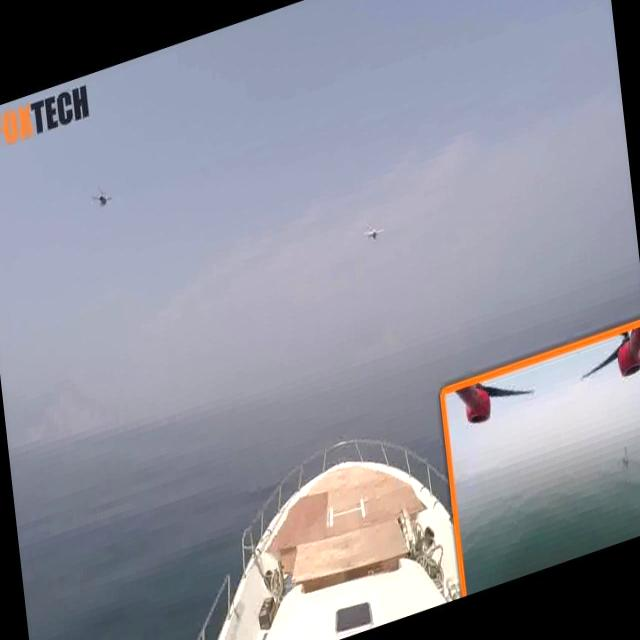drone: (84, 182, 113, 216), (361, 219, 386, 248)
